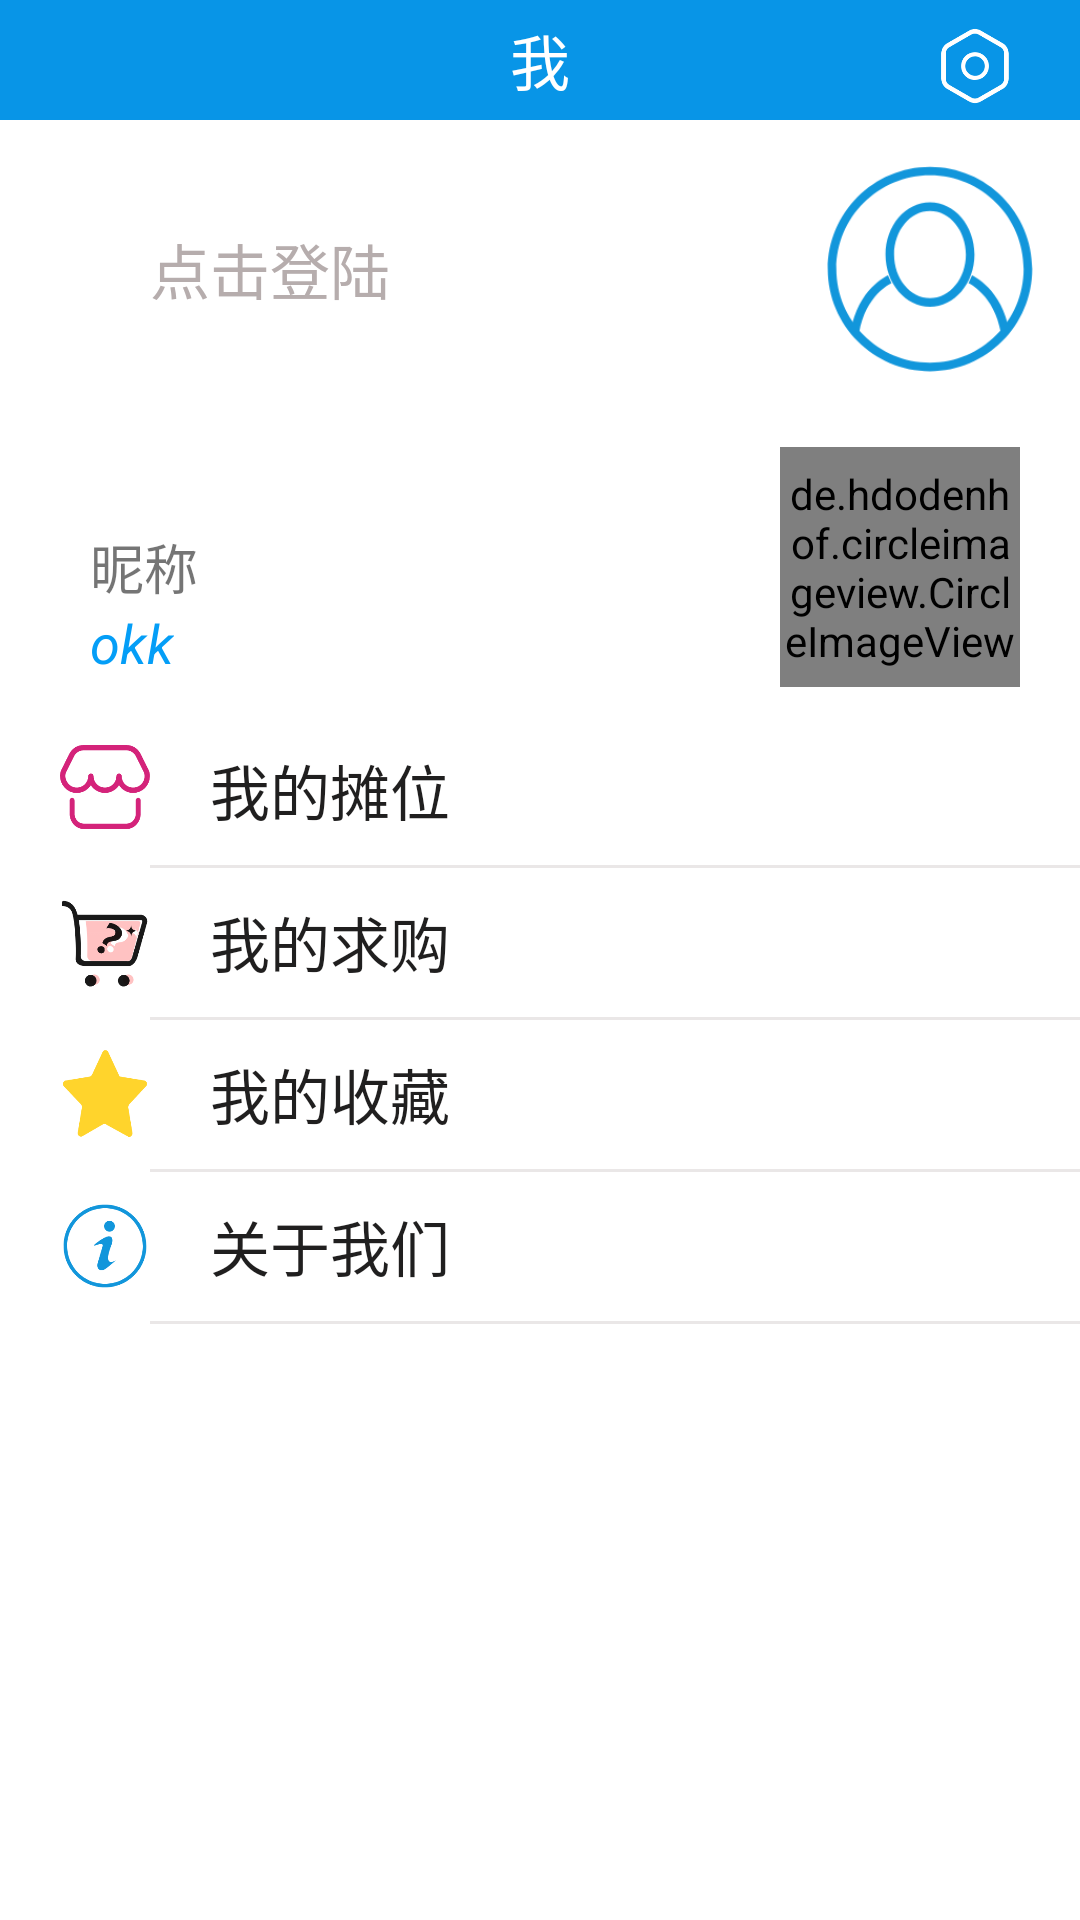

Icon bounding boxes for this 1080×1920 phone screenshot, format bbox=[x1, y1, x2, y2]:
me denglu: bbox=[827, 166, 1033, 372]
